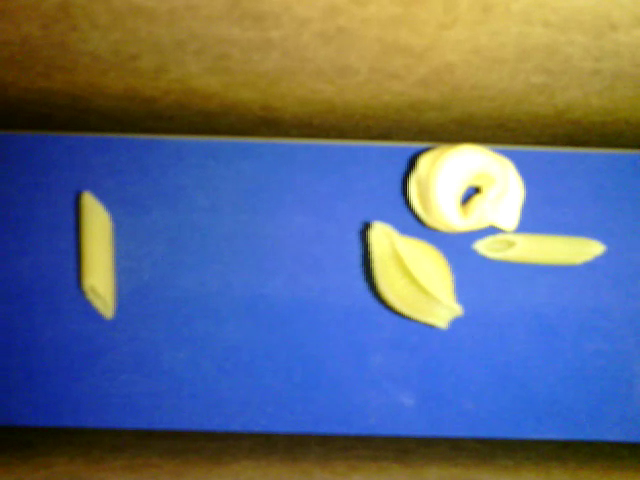penne: (470, 232, 608, 266), (80, 189, 115, 319)
shell: (364, 218, 465, 330)
tortellini: (407, 143, 525, 231)
